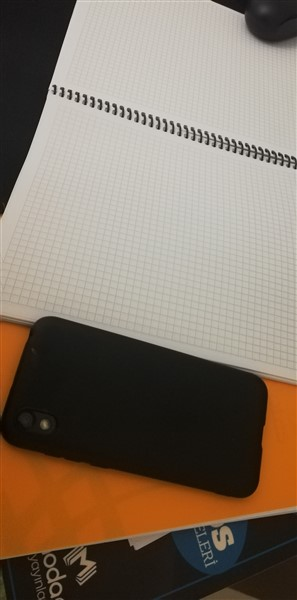telefon: (1, 312, 274, 502)
